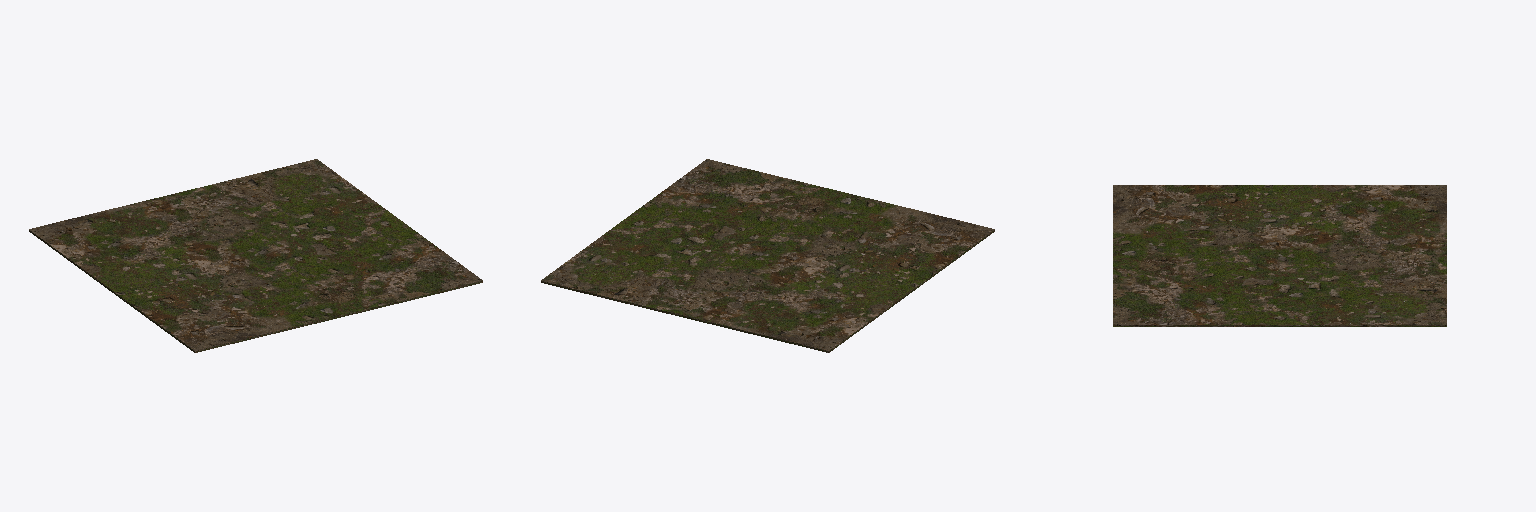
The picture shows the model from 3 angles: view 1: azimuth 30°, elevation 25°; view 2: azimuth 150°, elevation 25°; view 3: azimuth 270°, elevation 25°; orthographic projection.
Parts seen in each view (by area): view 1: Box001; view 2: Box001; view 3: Box001.
Part boxes in pixels (x1,y1,x2,y2): Box001: (29,159,482,352); Box001: (541,159,994,352); Box001: (1113,185,1446,326).
Size of the model in its own units: 150 by 1 by 150.
1 materials, 1 textured.